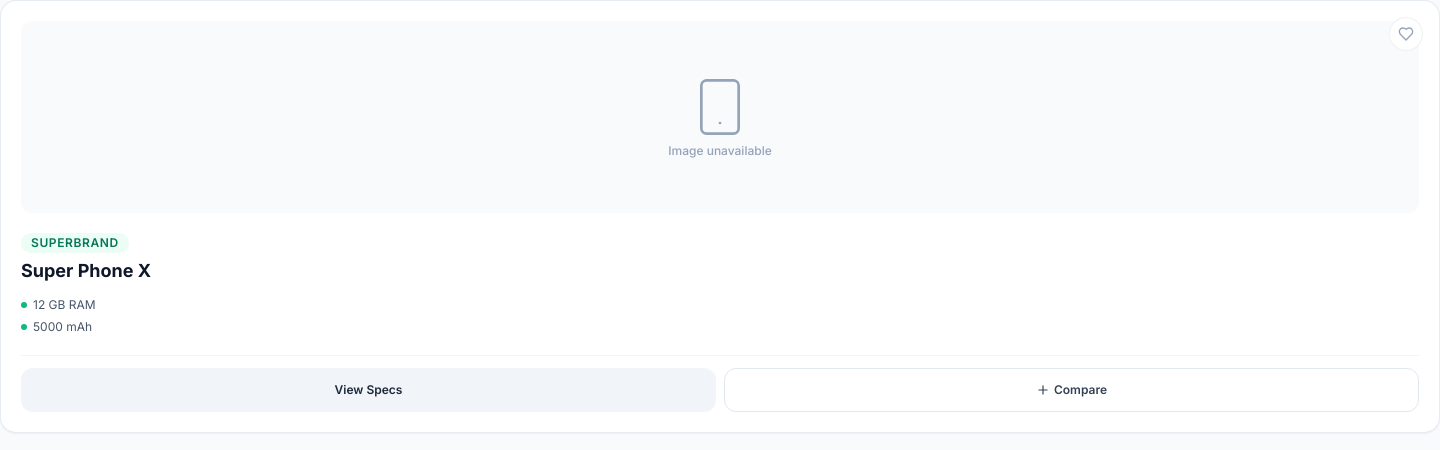
it: useFavorites Hook & Favorites Functionality › renders favorite button on PhoneCard and toggles status on click
Click the button named "Add Super Phone X to favorites".
click(1406, 34)  # box [1389,17,1423,51]
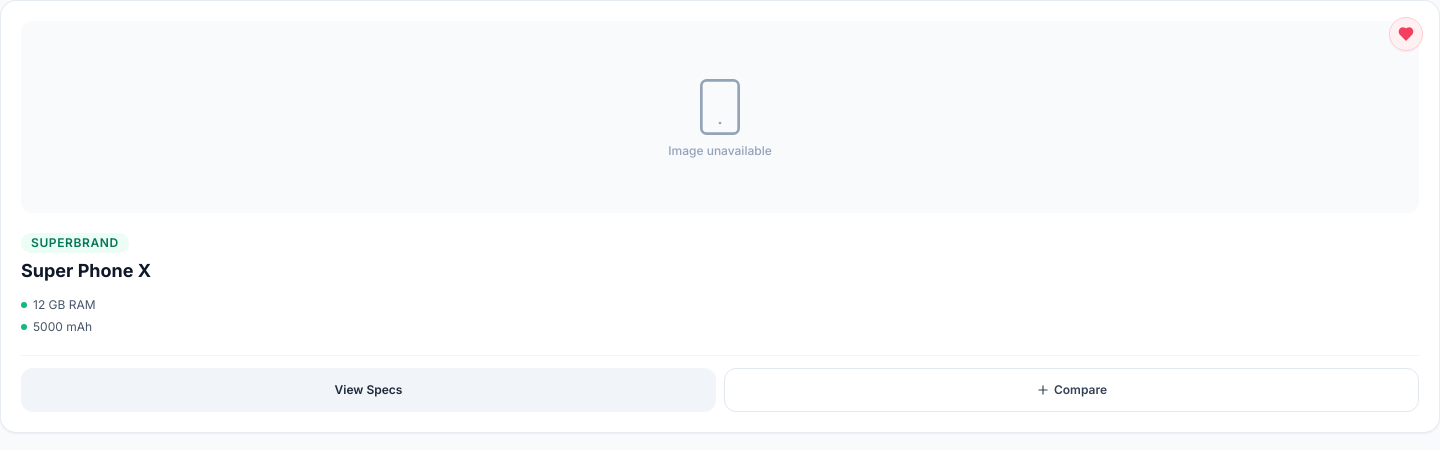
Now the button named "Remove Super Phone X from favorites" is shown, box [1389,17,1423,51]
